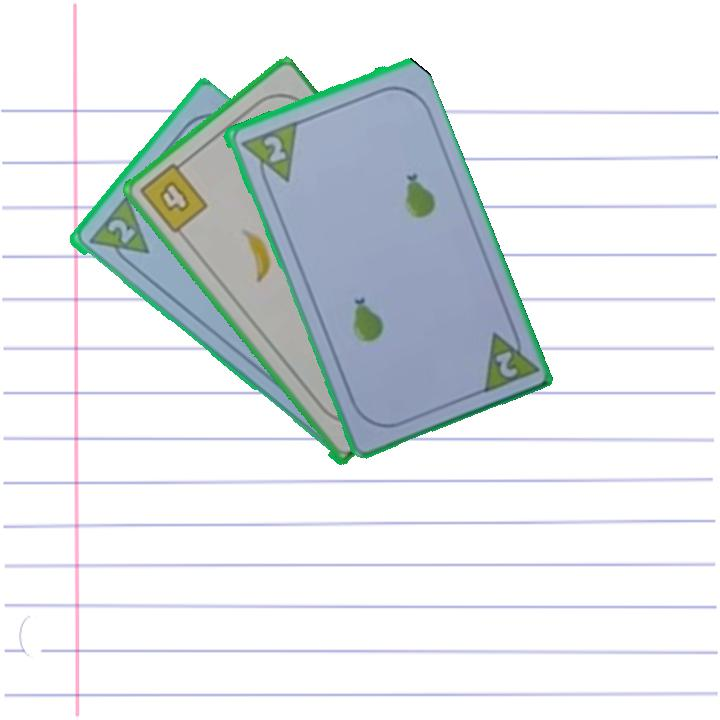2p: (476, 320, 539, 397), (236, 118, 300, 191), (103, 215, 138, 247)
4b: (135, 155, 210, 236)
